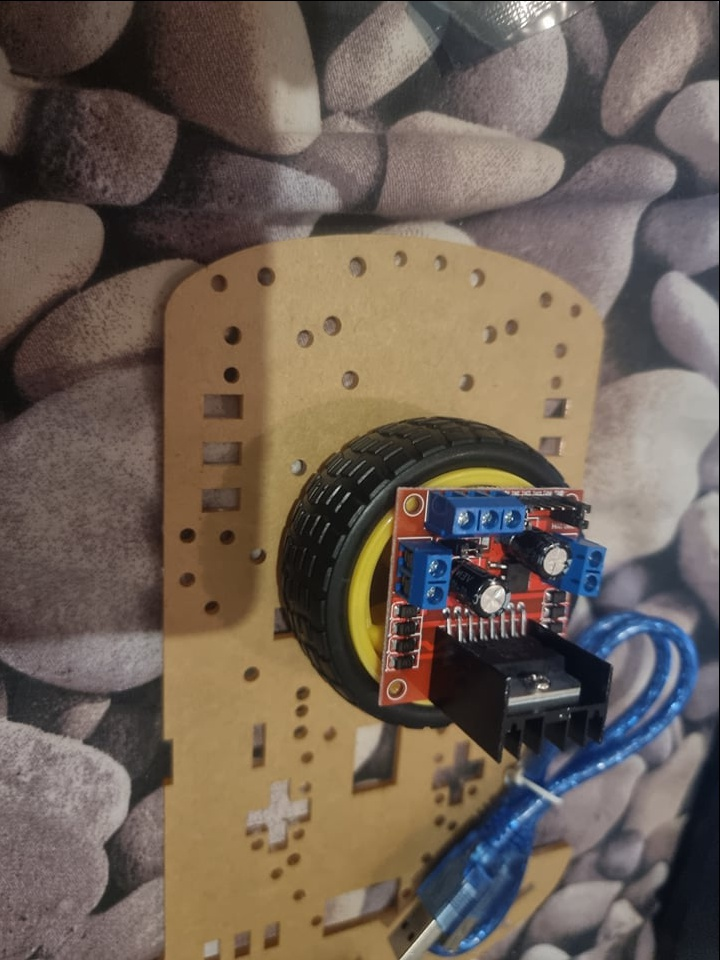MOTOR: (378, 485, 612, 775)
